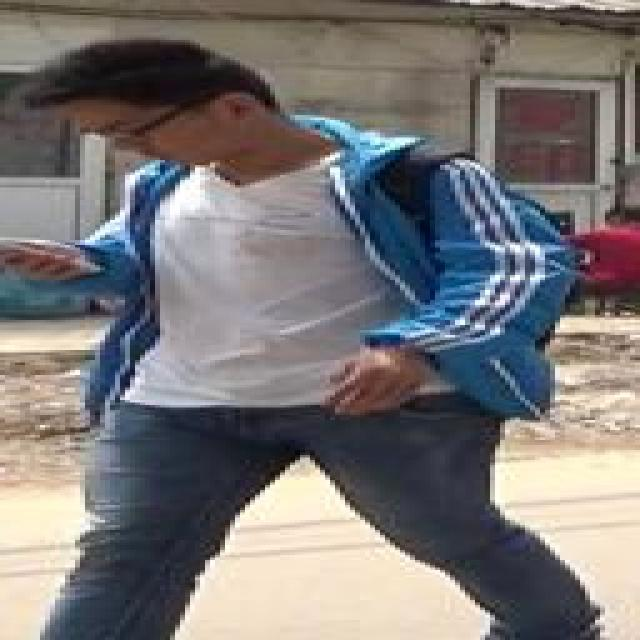adult: (5, 43, 601, 640)
